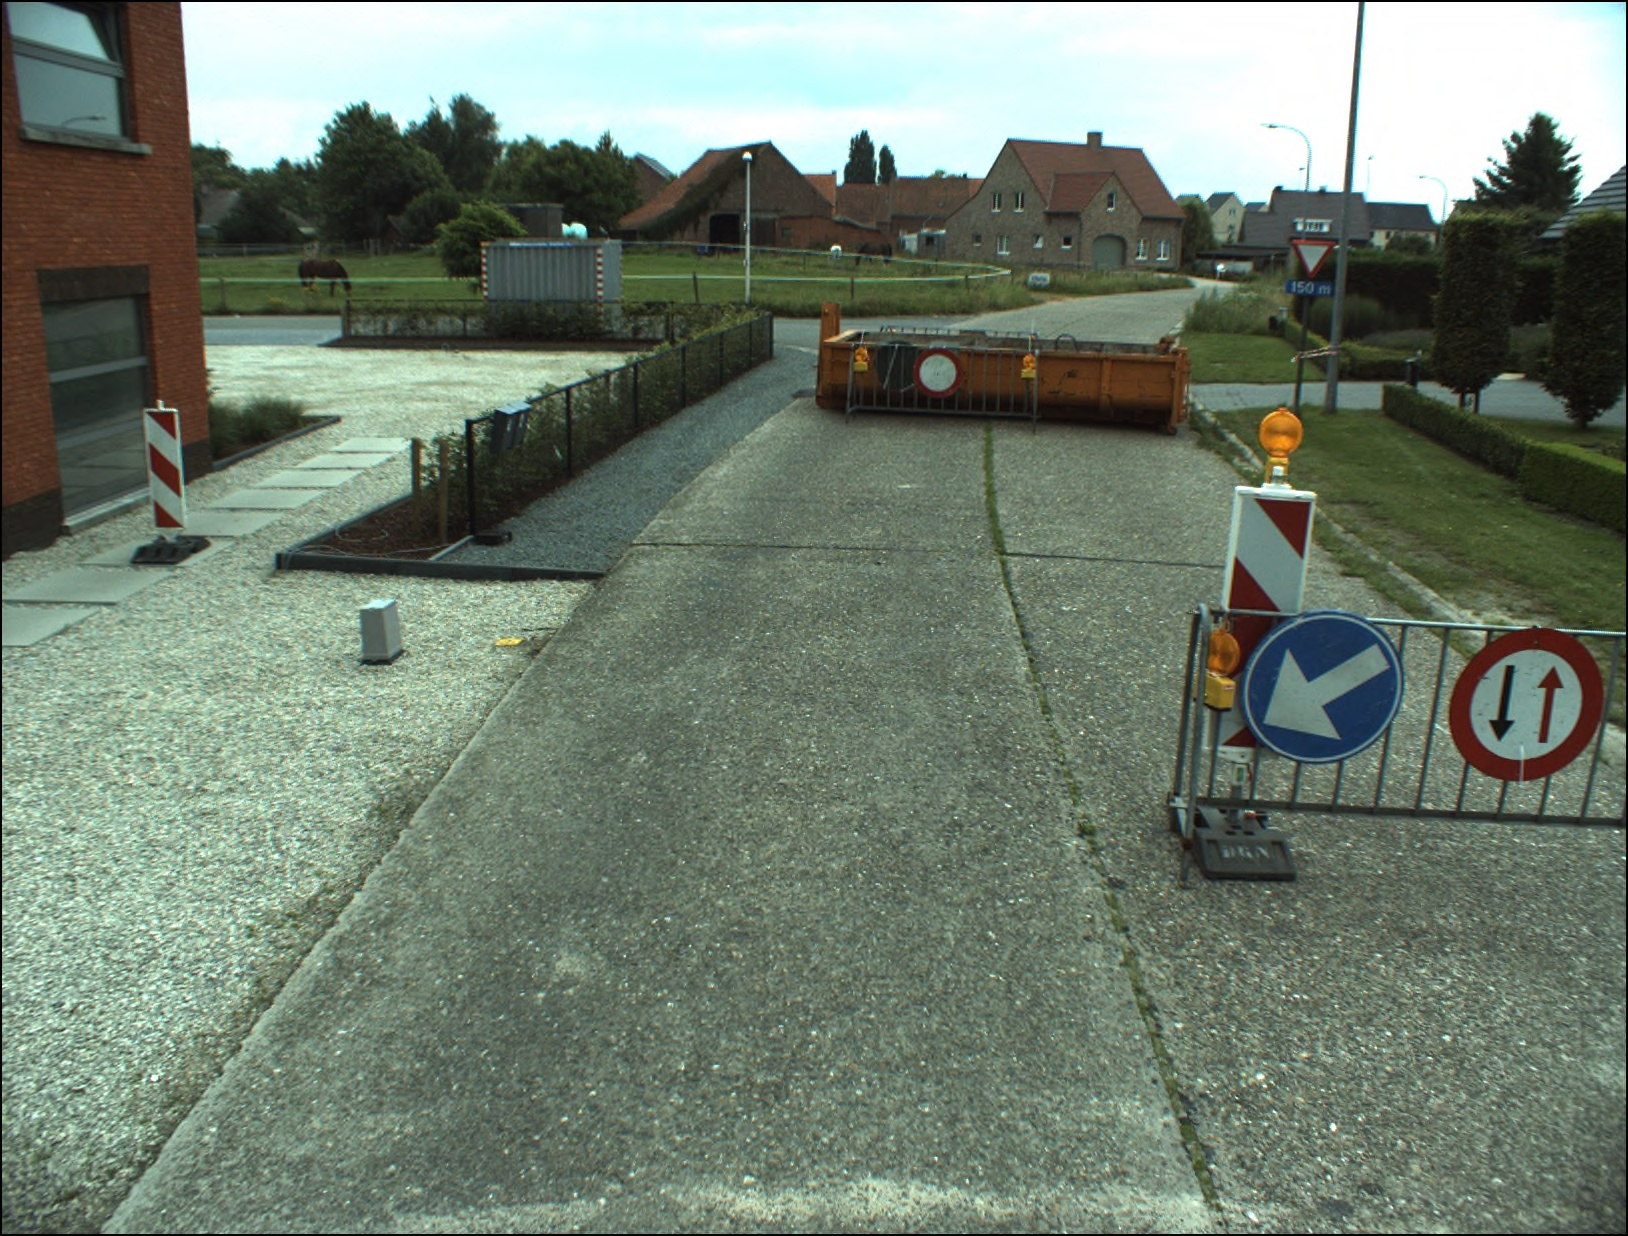forbidden: (914, 354, 963, 396)
passleft: (1241, 612, 1400, 763)
roadnarrow2: (1451, 628, 1603, 782)
